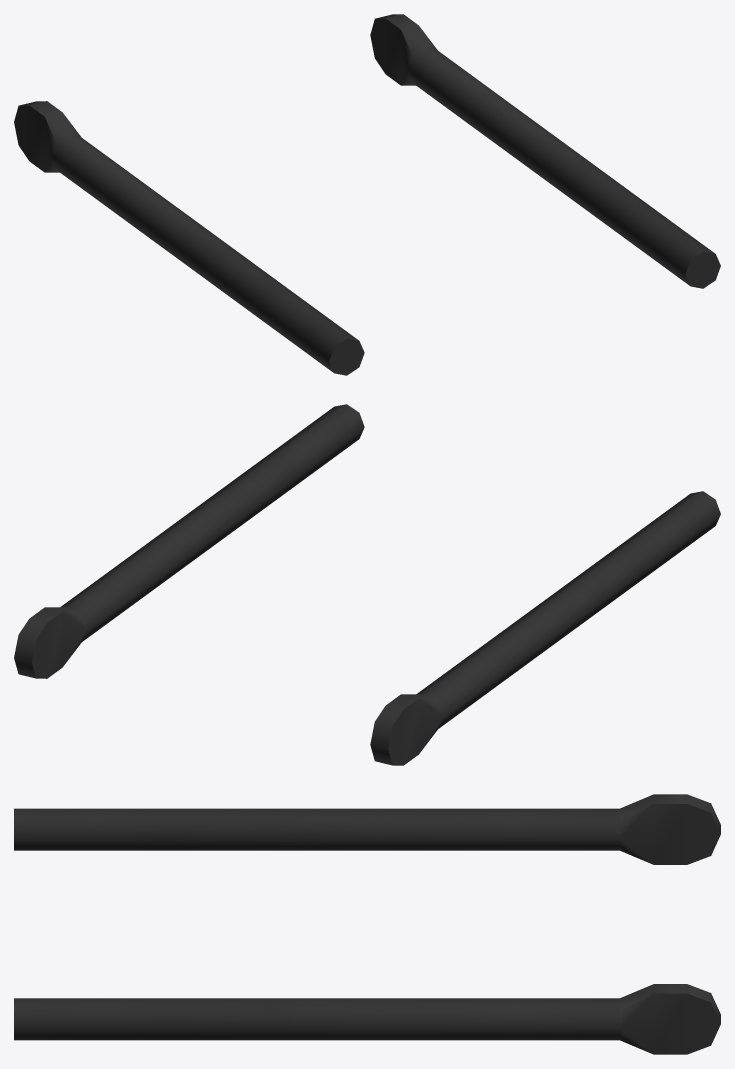
File: carpupper.obj
3 views of the same model, one above another, from view 1: azimuth 30°, elevation 25°; view 2: azimuth 150°, elevation 25°; view 3: azimuth 270°, elevation 25° (orthographic). The views are drawn at different scales.
Parts seen in each view (by area): view 1: 1; view 2: 1; view 3: 1.
Part boxes in pixels (bbox=[...]): 1: bbox=[14, 14, 720, 375]; 1: bbox=[14, 404, 720, 765]; 1: bbox=[14, 794, 720, 1054].
Bounding box in the file's own units: 0.55 × 0.075 × 0.7875.
